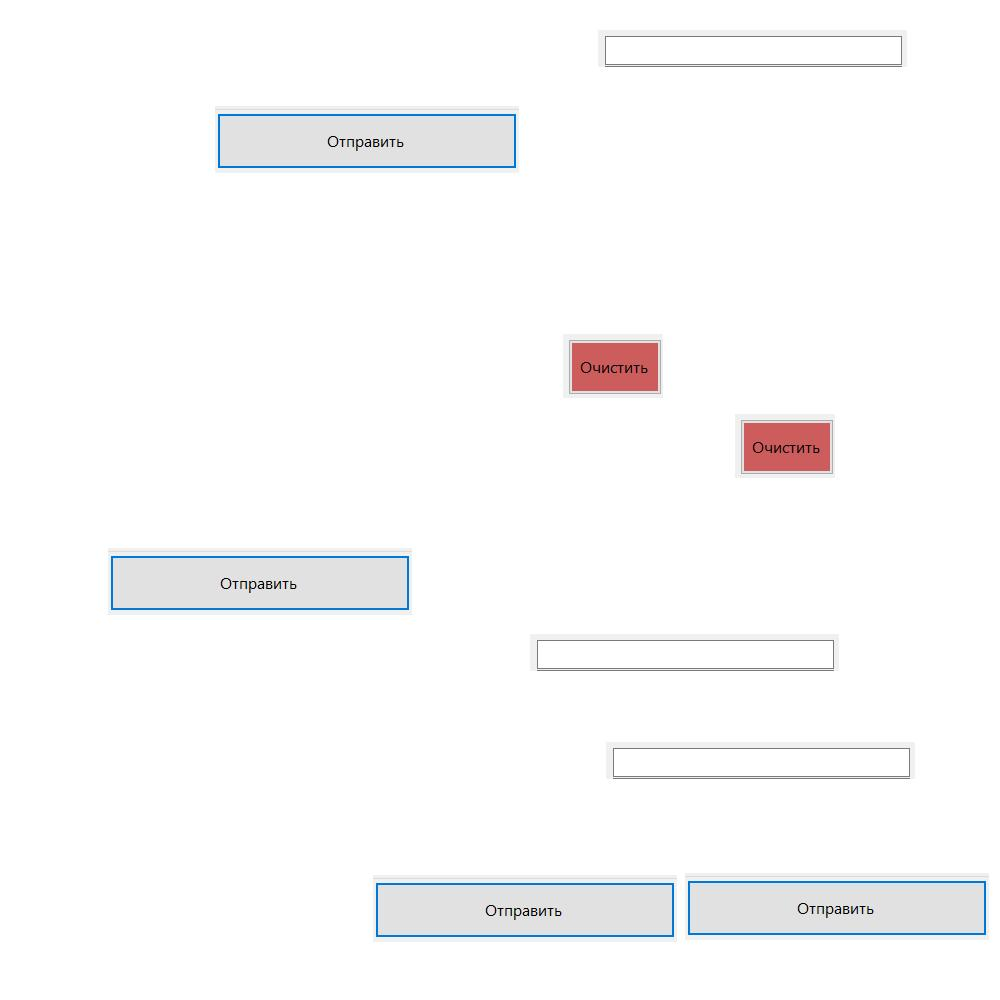Button: (108, 548, 412, 615), (215, 106, 519, 173), (373, 875, 677, 942), (685, 873, 989, 940), (563, 334, 663, 398), (735, 414, 835, 478)
EditText-: (598, 30, 907, 67), (606, 742, 915, 779), (530, 634, 839, 671)
